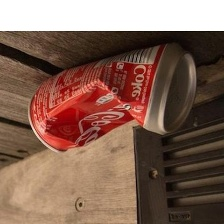can: (25, 39, 203, 154)
